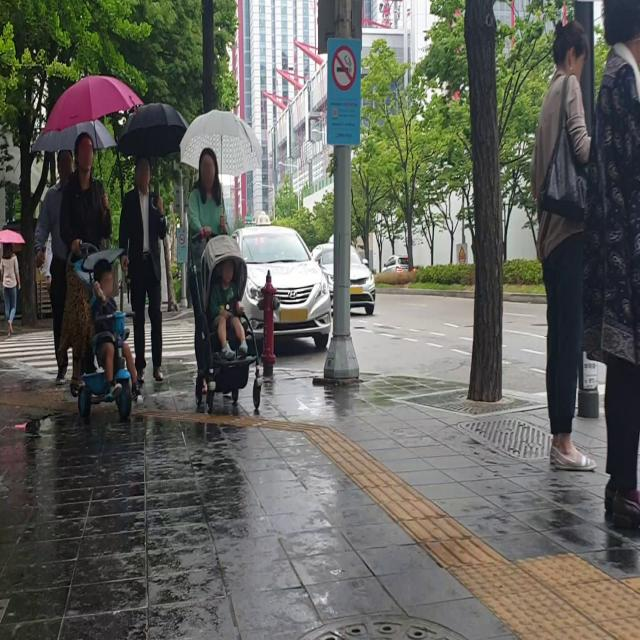횡단보도: (0, 320, 198, 374)
